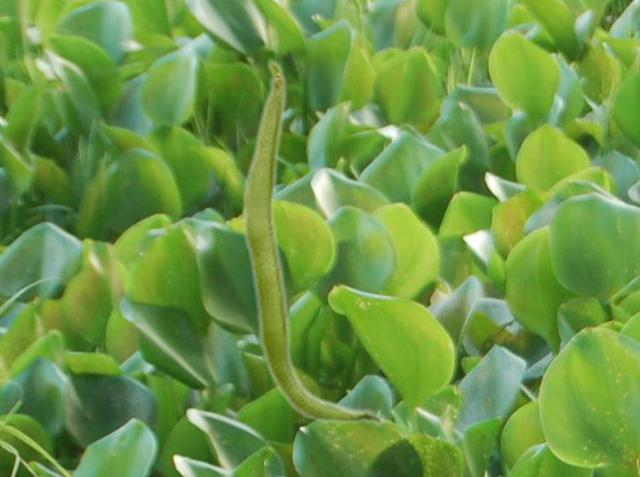french_bean: (240, 57, 386, 427)
